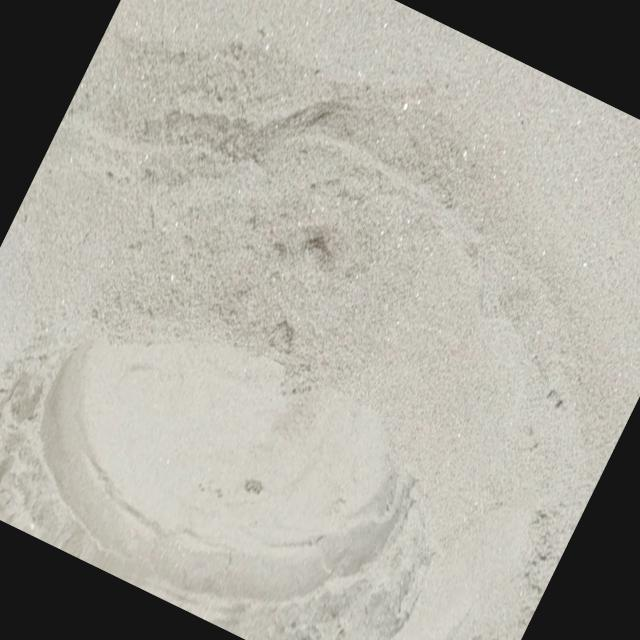C40: (0, 343, 402, 640)
